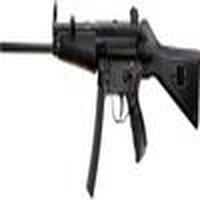gun: (2, 1, 200, 144)
